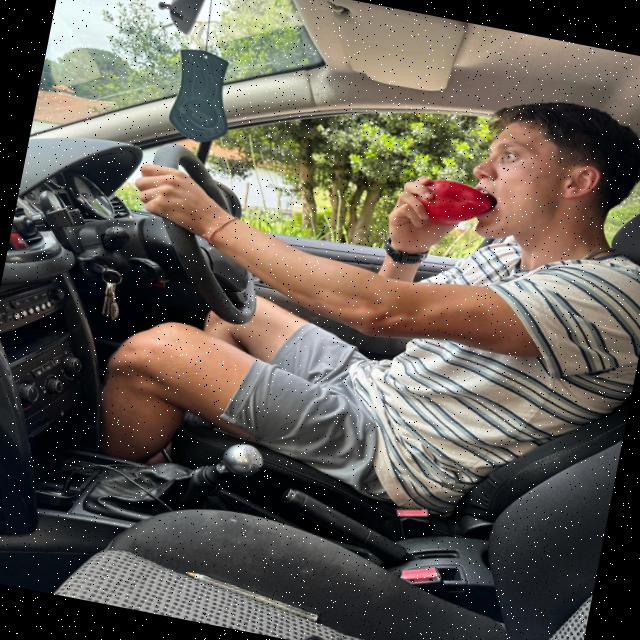Eating: (402, 154, 495, 252)
